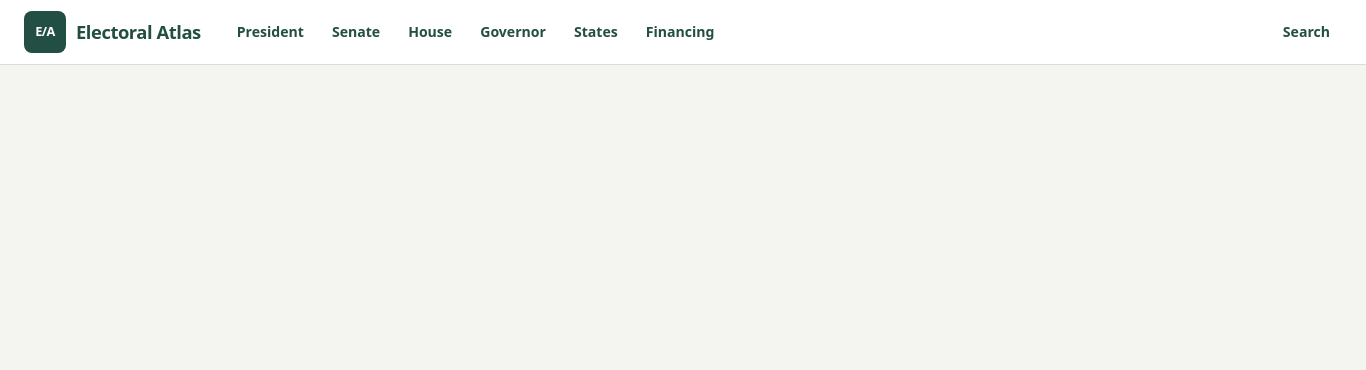
Test case: site header and presidential archive › opens one section at a time, closes on Escape/outside and sends the logo home
The width and height of the screenshot is (1366, 370).
Click the button "President". click: (270, 32)
box: x1=225 y1=10 x2=316 y2=54
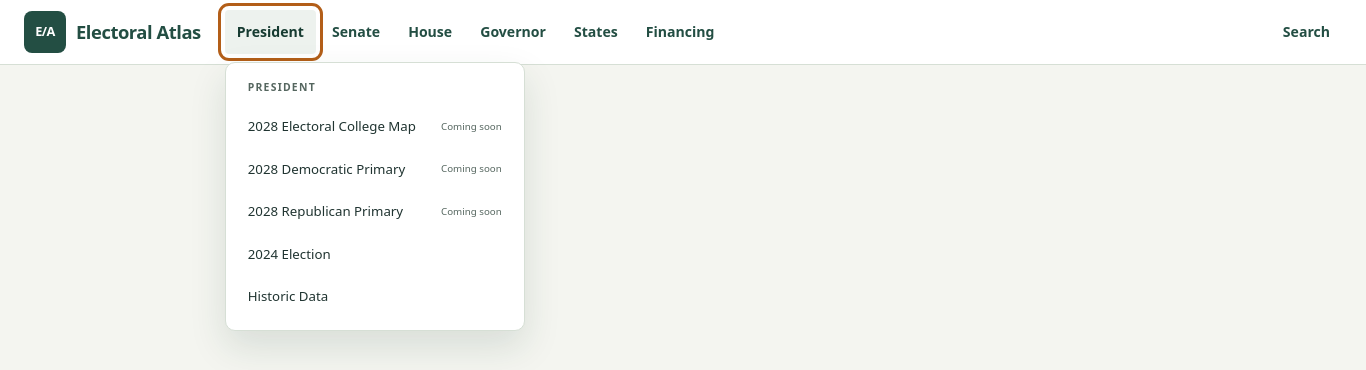
Click the button "Senate". click: (356, 32)
box: x1=320 y1=10 x2=392 y2=54
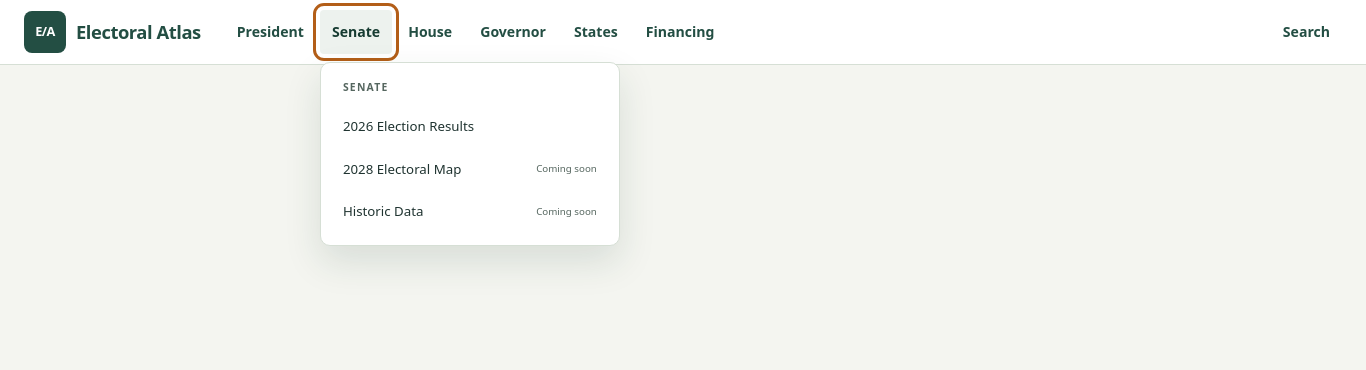
Expected: the link "2028 Democratic Primary" is gone
Press Escape
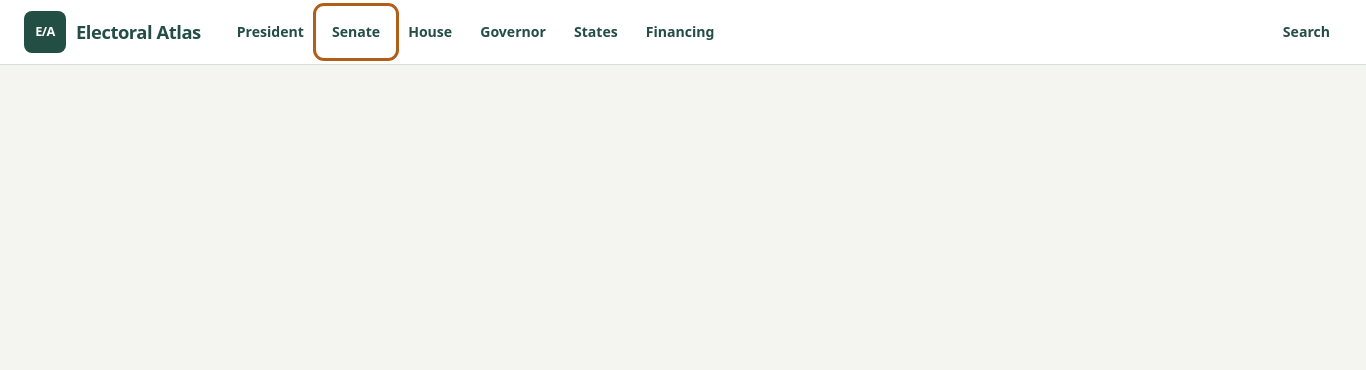
Expected: the link "2026 Election Results" is gone
Click the button "Search". click: (1306, 32)
box: x1=1271 y1=10 x2=1342 y2=54
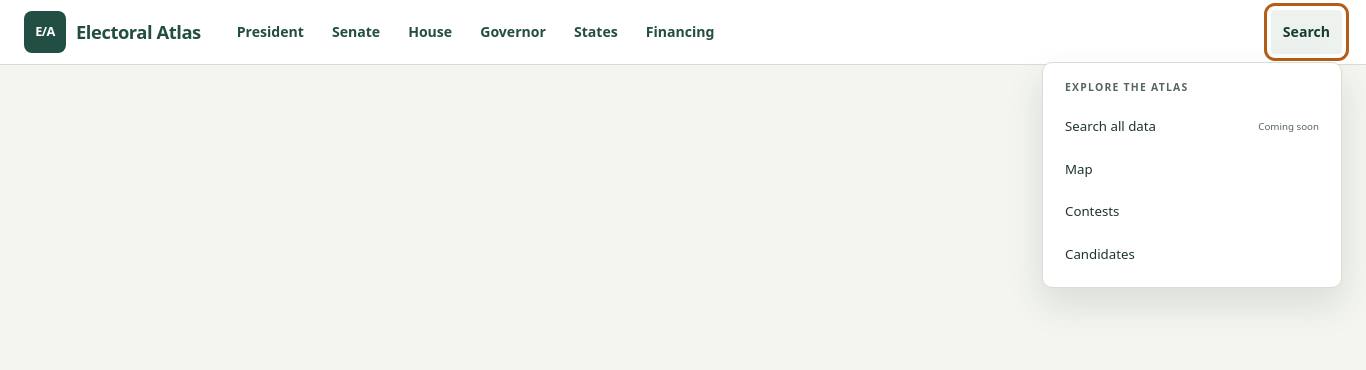
Press the mouse on the element that starts with "E/A" at (683, 32), box x1=0 y1=0 x2=1365 y2=65
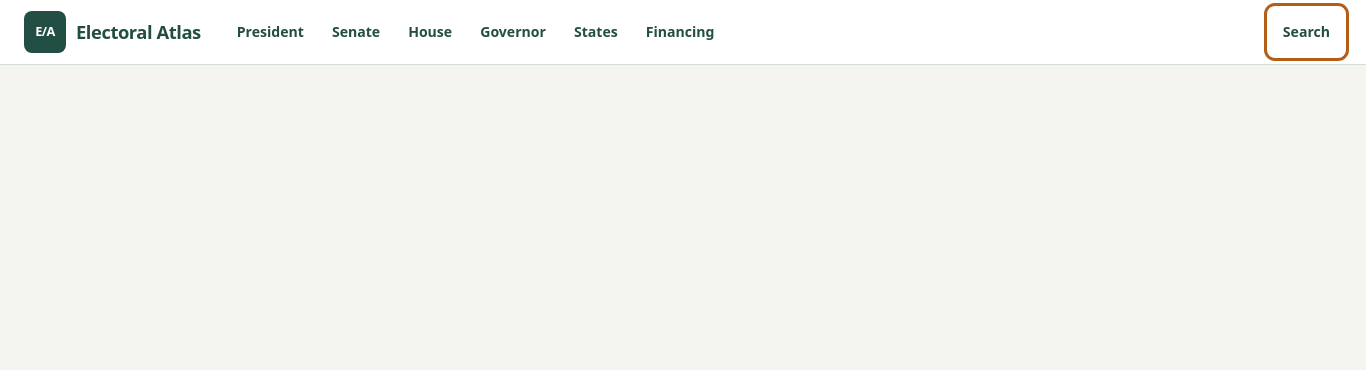
Expected: the link "Contests" is gone
